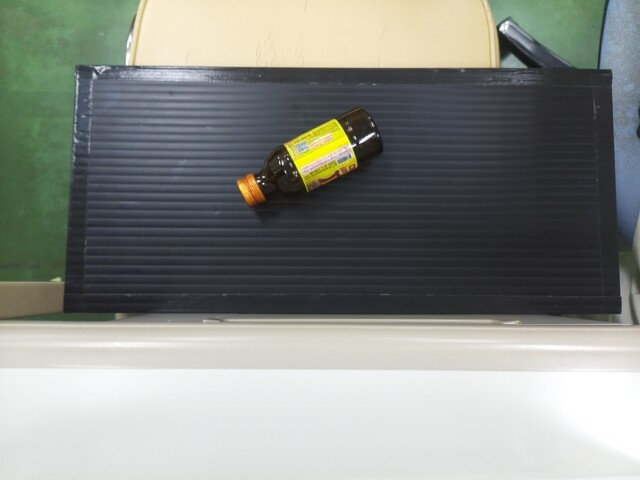glass_bottle: (232, 109, 381, 202)
